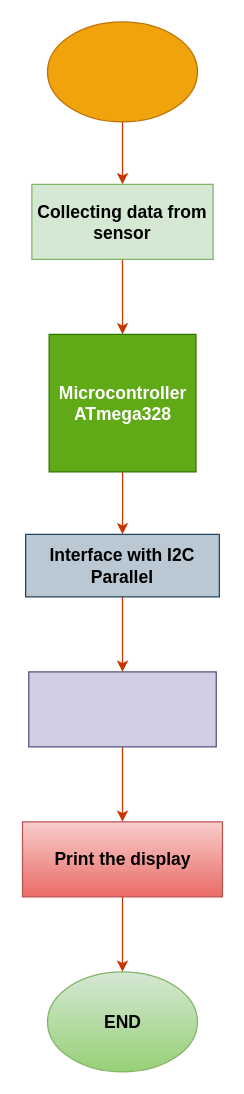
This 244x1094 diagram has some shape labels left out. The box of each missing label's shape, as (x1, y1, x2, y2) in pixels:
Communicate with LCD through I2C: (28, 671, 216, 747)
Start: (46, 21, 198, 122)
